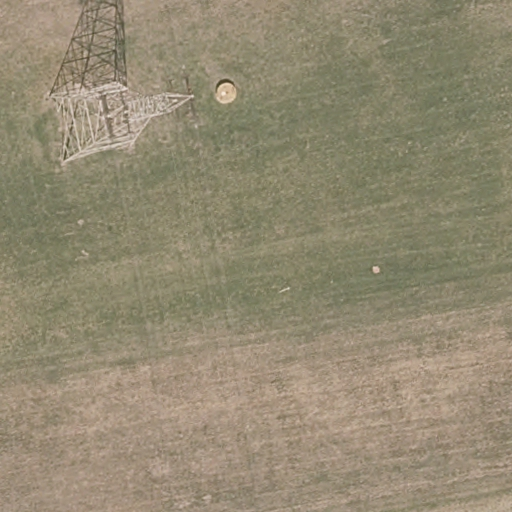TT: (52, 82, 196, 165)
